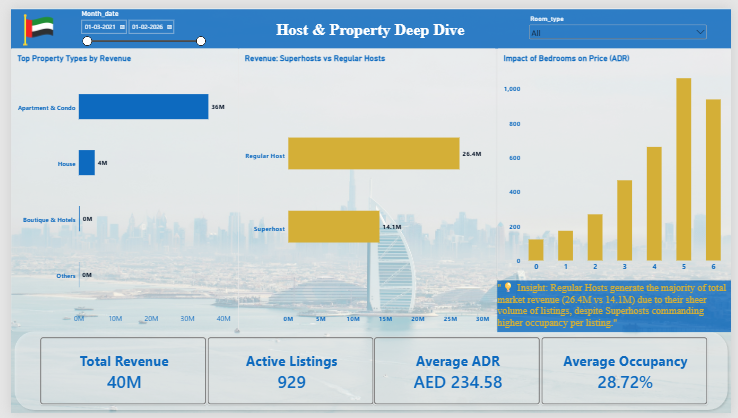

This screenshot's page, from the dashboard's own definition file:
{"tool":"powerbi","page":{"name":"Host & Property Performance","canvas":[1920,1080],"ordinal":1},"visuals":[{"type":"image","box":[0,0,1920,1080],"z":0},{"type":"shape","box":[0,3.3,1920,105],"z":1000},{"type":"textbox","box":[457.5,32.5,1002.5,57.5],"z":2000},{"type":"slicer","fields":{"Values":["listings_clean.room_type"]},"box":[1376.7,16.7,483.3,90],"z":3000},{"type":"slicer","fields":{"Values":["listings_clean.month_date"]},"box":[180,2.5,342.5,150],"z":4000},{"type":"shape","box":[0,852.5,1920,227.5],"z":5000},{"type":"cardVisual","fields":{"Data":["listings_clean.Total Revenue"]},"box":[77.5,875,445,182.5],"z":6000},{"type":"cardVisual","fields":{"Data":["listings_clean.Active Listings"]},"box":[522.5,875,445,182.5],"z":7000},{"type":"cardVisual","fields":{"Data":["listings_clean.Average ADR"]},"box":[967.5,875,445,182.5],"z":8000},{"type":"cardVisual","fields":{"Data":["listings_clean.Average Occupancy"]},"box":[1412.5,875,445,182.5],"z":9000},{"type":"image","box":[0,17.5,146.7,83.3],"z":10000},{"type":"barChart","title":"Top Property Types by Revenue","fields":{"Category":["listings_clean.property_type"],"Y":["listings_clean.Total Revenue"]},"box":[0,107.5,607.5,755],"z":11000},{"type":"columnChart","title":"Impact of Bedrooms on Price (ADR)","fields":{"Category":["listings_clean.bedrooms"],"Y":["listings_clean.Average ADR"]},"box":[1295,107.5,625,617.5],"z":12000},{"type":"clusteredBarChart","title":"Revenue: Superhosts vs Regular Hosts","fields":{"Category":["listings_clean.Host Type"],"Y":["listings_clean.Total Revenue"]},"box":[607.5,107.5,687.5,755],"z":13000},{"type":"textbox","box":[1295,725,625,137.5],"z":14000}]}

Visuals, with their boxes in screenshot pixels (x1, y1, x2, y2), scaled from the page's 1920x1080 canvas onto the 738x418 screenshot:
image: x1=0 y1=0 x2=737 y2=417
shape: x1=0 y1=1 x2=737 y2=42
textbox: x1=176 y1=13 x2=561 y2=35
slicer - listings_clean.room_type: x1=529 y1=6 x2=715 y2=41
slicer - listings_clean.month_date: x1=69 y1=1 x2=201 y2=59
shape: x1=0 y1=330 x2=737 y2=417
cardVisual - listings_clean.Total Revenue: x1=30 y1=339 x2=201 y2=409
cardVisual - listings_clean.Active Listings: x1=201 y1=339 x2=372 y2=409
cardVisual - listings_clean.Average ADR: x1=372 y1=339 x2=543 y2=409
cardVisual - listings_clean.Average Occupancy: x1=543 y1=339 x2=714 y2=409
image: x1=0 y1=7 x2=56 y2=39
"Top Property Types by Revenue" barChart: x1=0 y1=42 x2=234 y2=334
"Impact of Bedrooms on Price (ADR)" columnChart: x1=498 y1=42 x2=737 y2=281
"Revenue: Superhosts vs Regular Hosts" clusteredBarChart: x1=234 y1=42 x2=498 y2=334
textbox: x1=498 y1=281 x2=737 y2=334
